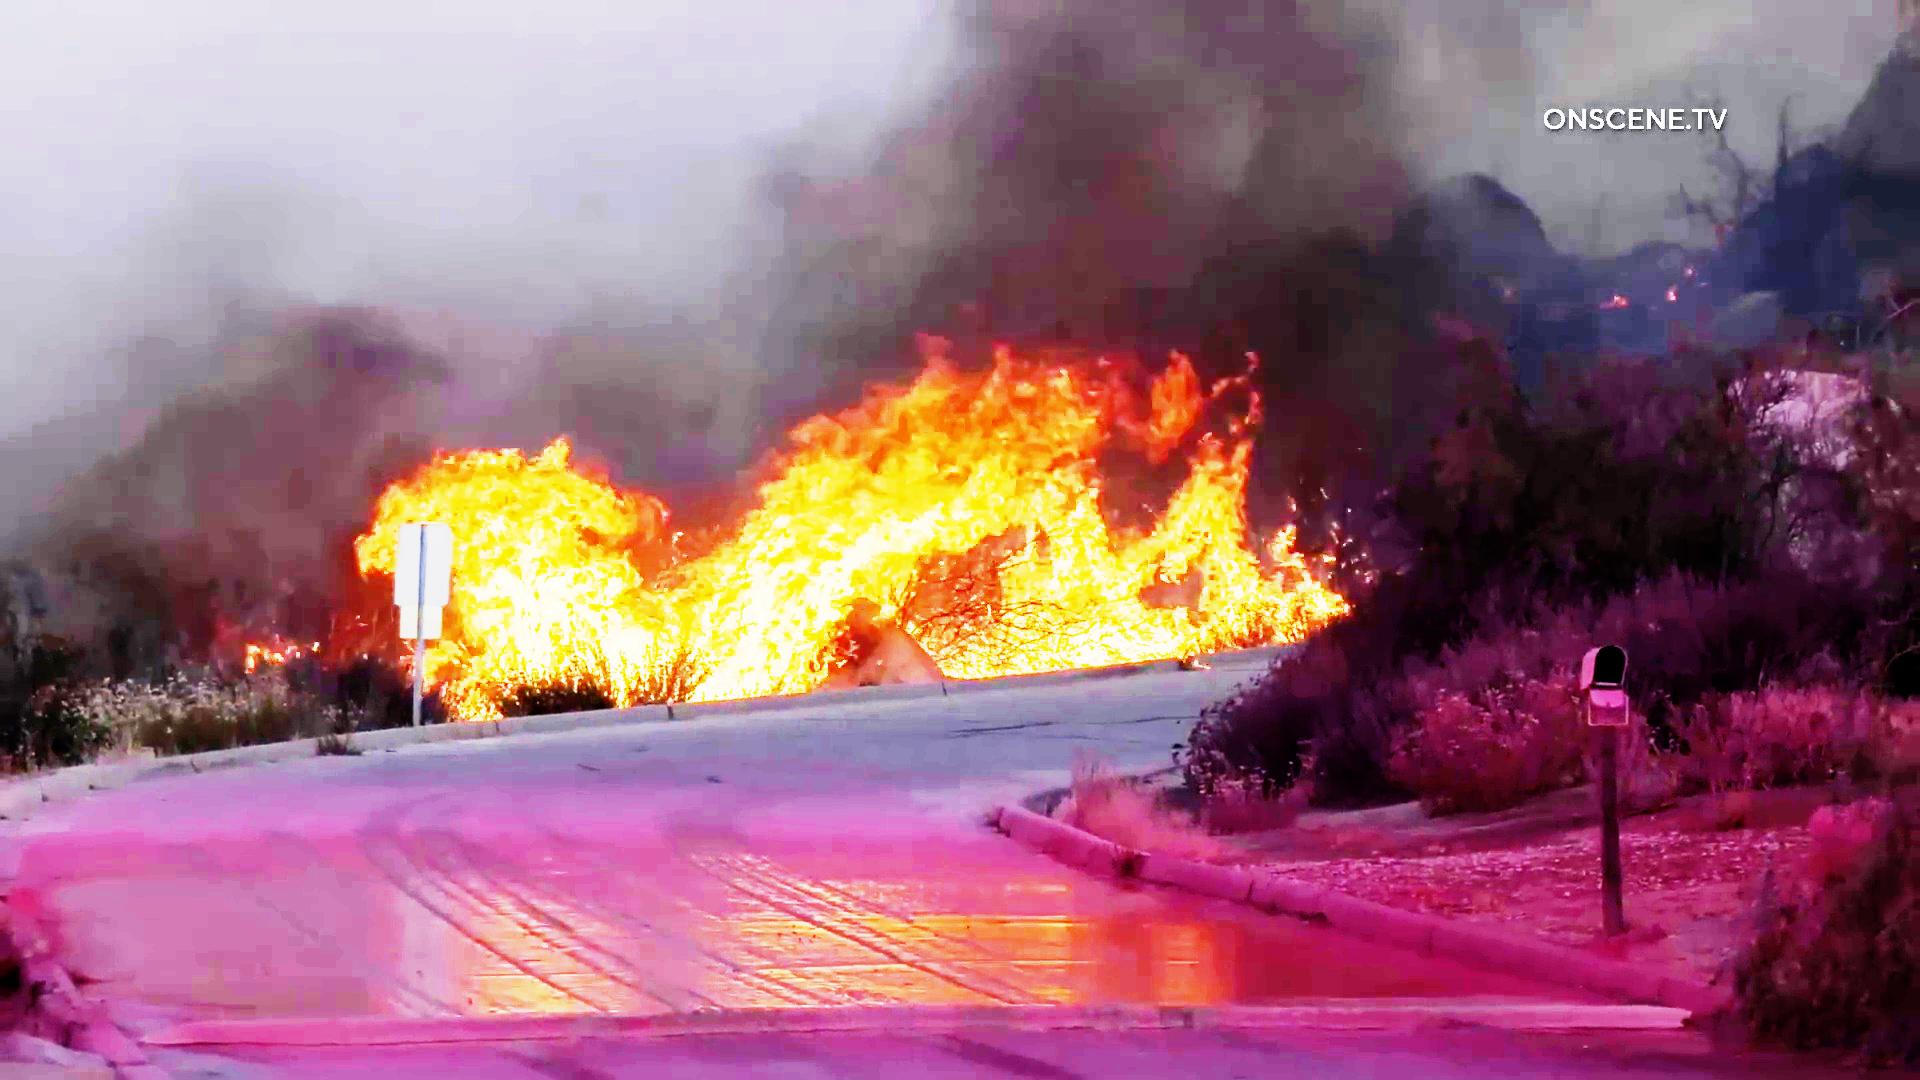fire: (695, 357, 1275, 699), (357, 430, 691, 712)
